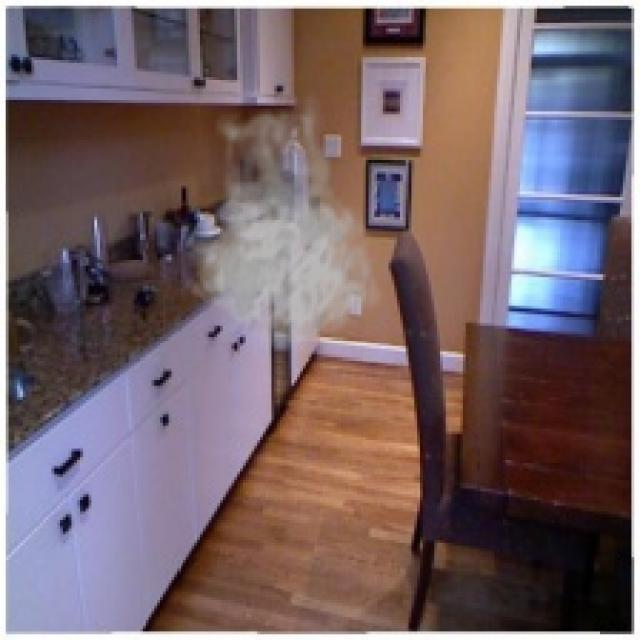Smoke: (180, 91, 383, 352)
